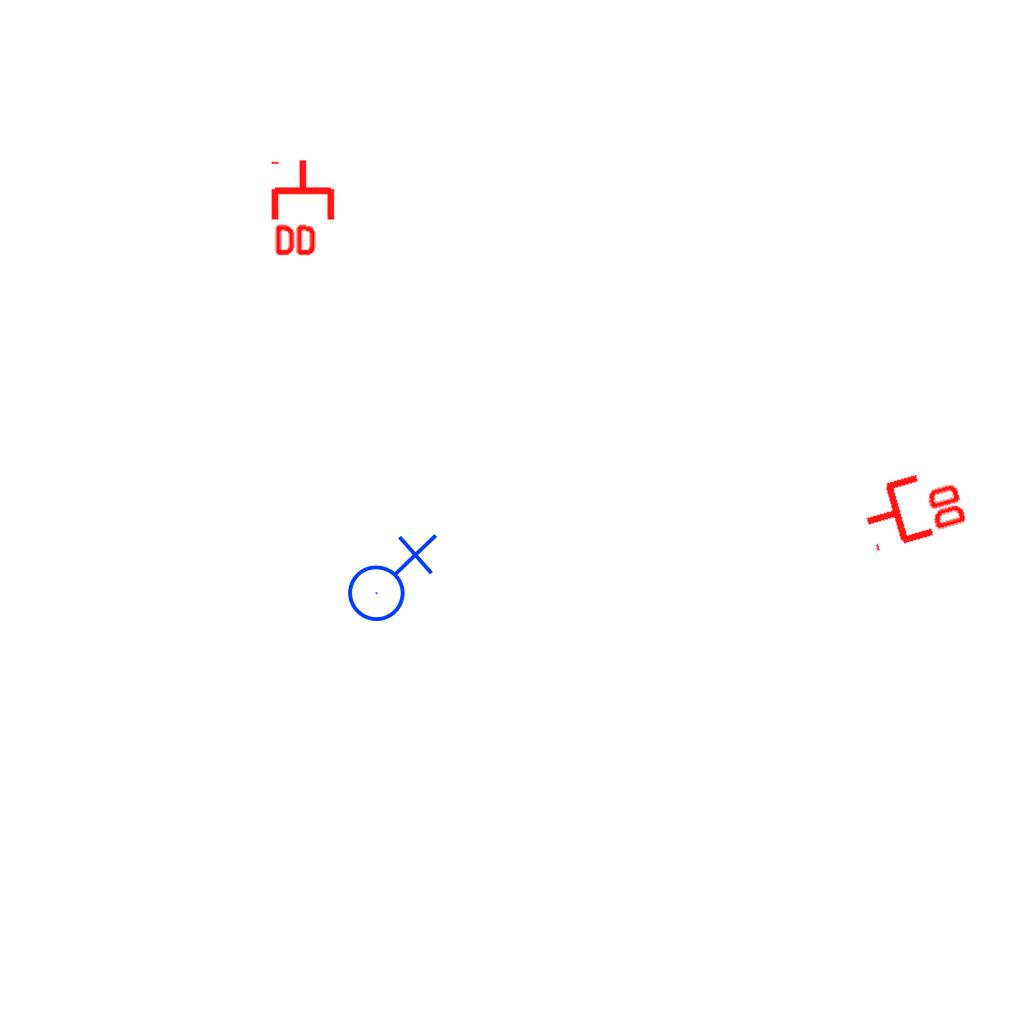Datenanschluss_zweifach: (854, 459, 973, 554), (270, 157, 339, 260)
Elektroanschluss_allgemein_230V_Geraeteanschlussdose_230V: (339, 529, 438, 623)
